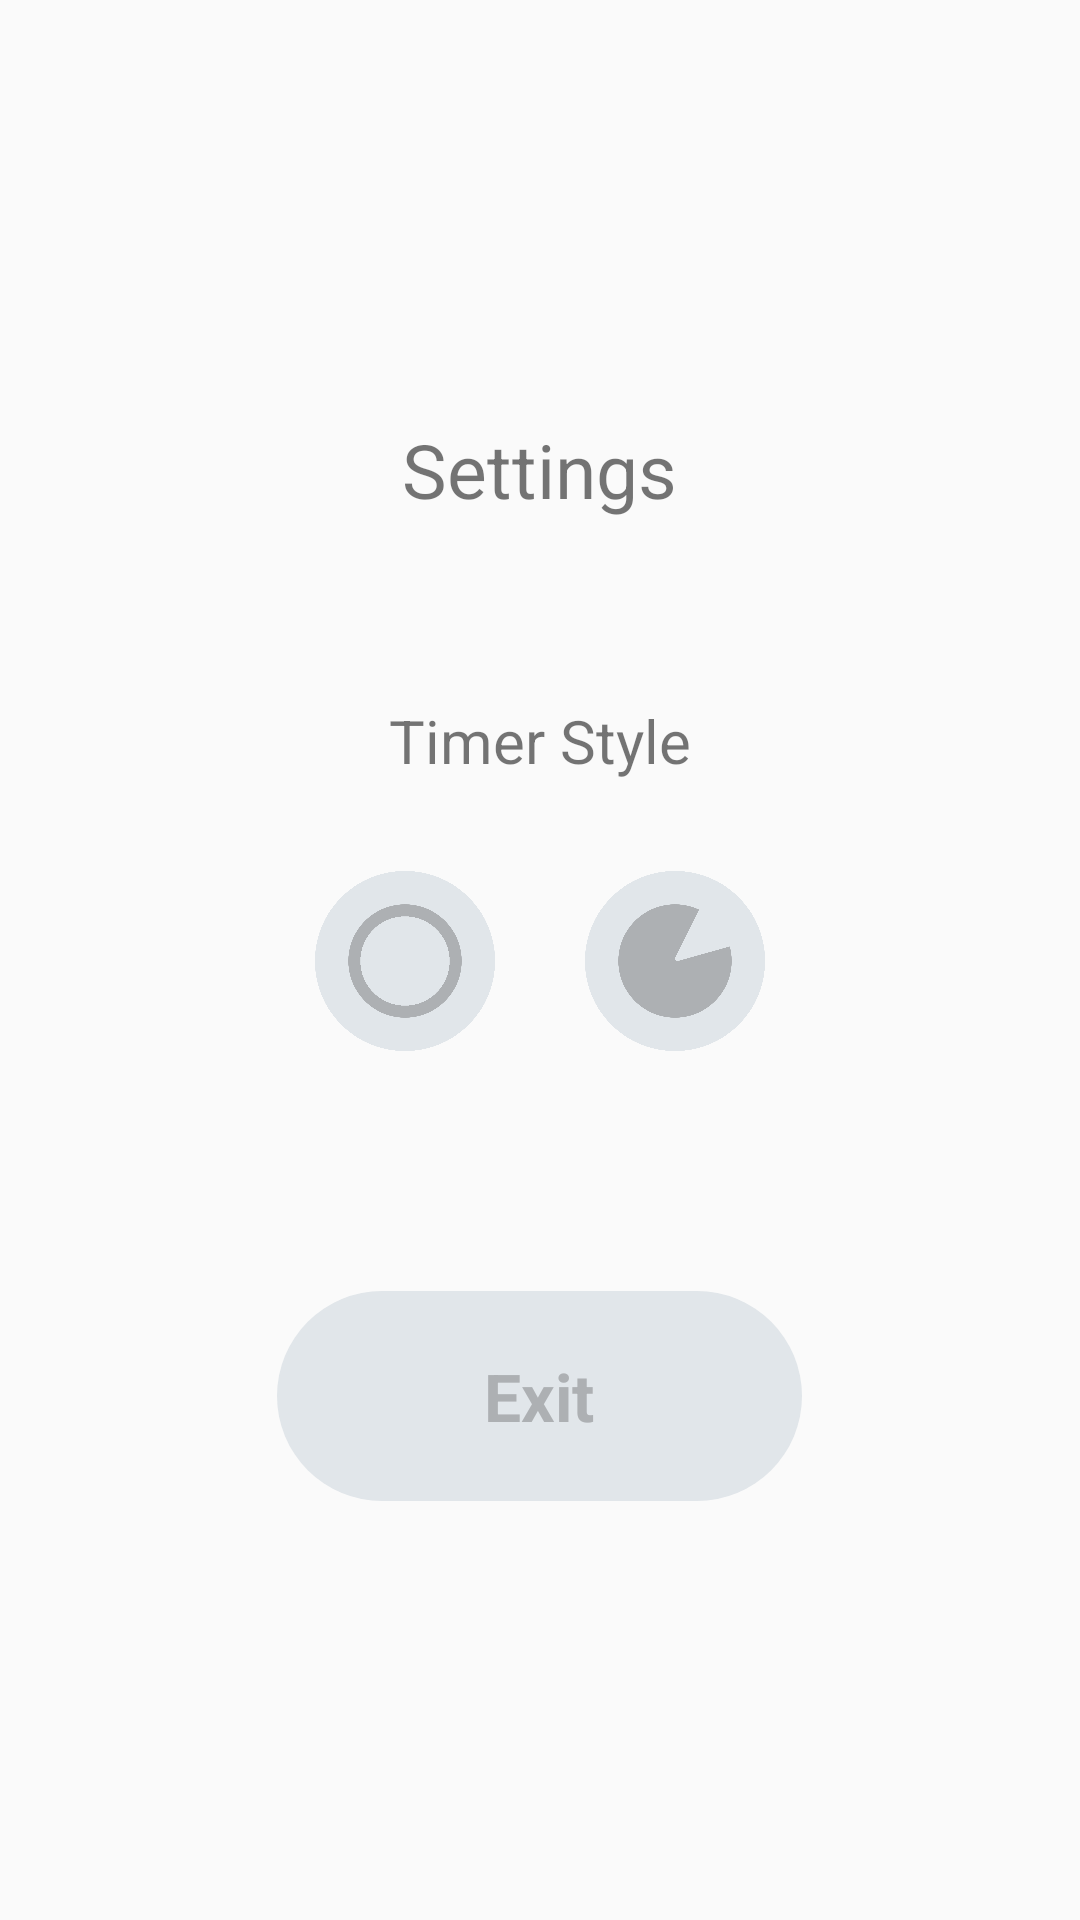

Named icons in this screenshot (1080px x 1920px) and their bounding boxes, (left=x1, top=y1, right=x2, bottom=y2):
ringbtn: (left=315, top=871, right=495, bottom=1051)
